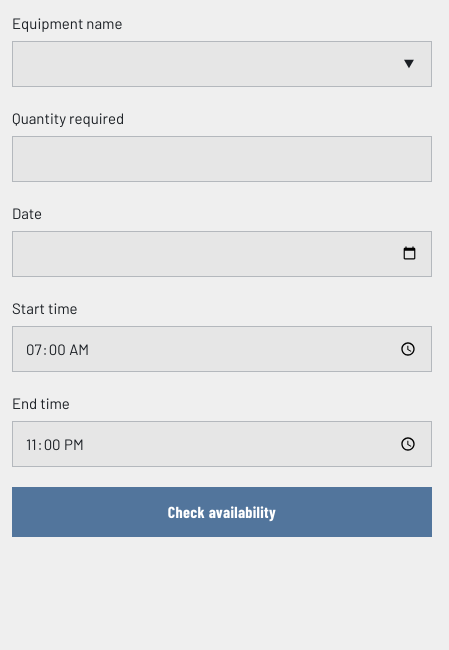
Test case: SCRUM-18 equipment availability form › SCRUM-18/AC4,AC6: prompts for a missing name, date and times without asking the service
Type "4" into the number field labelled "Quantity required".
click(222, 159); type("4")  # box [12, 136, 432, 182]
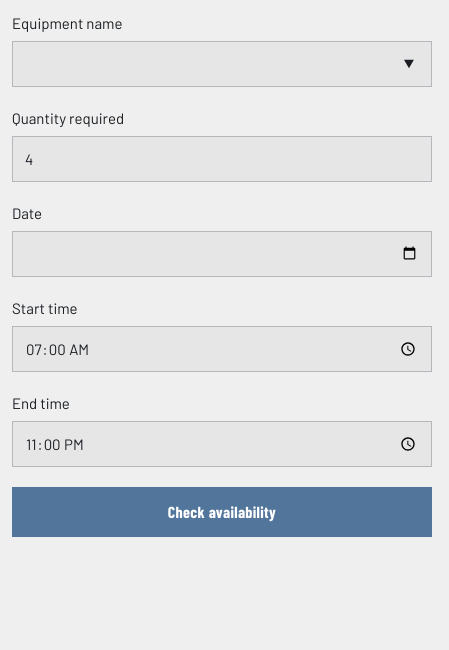
Clear the time field labelled "Start time" at (222, 349), box [12, 326, 432, 372]
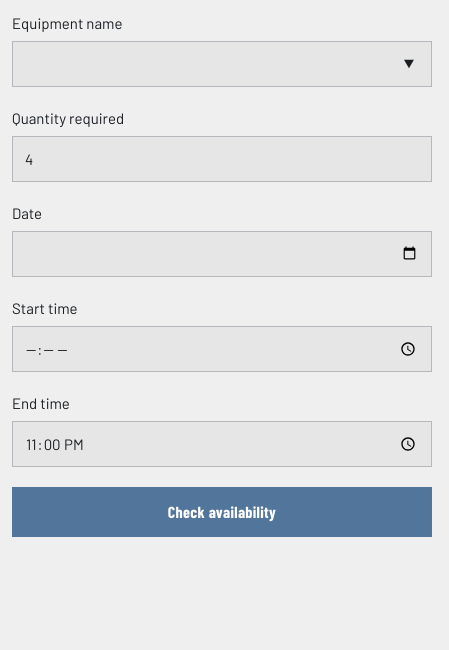
Clear the time field labelled "End time" at (222, 444), box [12, 420, 432, 467]
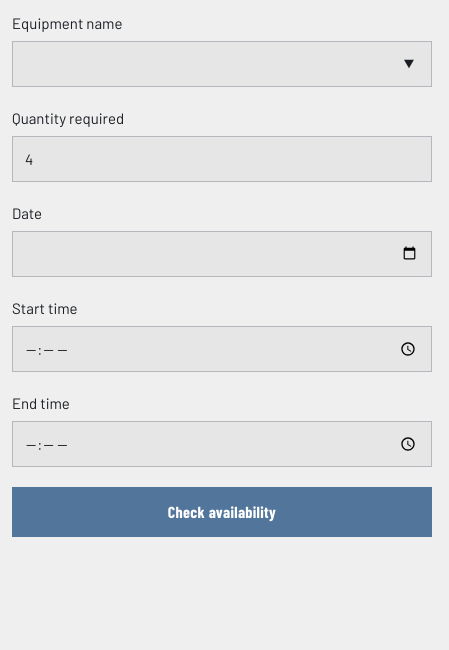
Click the button "Check availability".
click(222, 512)  # box [12, 487, 432, 537]
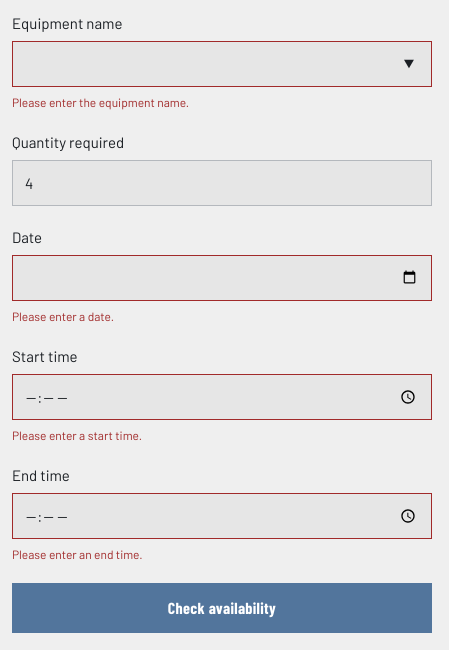
Result: the text "Please enter the equipment name." is shown at [12, 95, 189, 109]
Result: the text "Please enter a date." is shown at [12, 309, 114, 323]
Result: the text "Please enter a start time." is shown at [12, 428, 142, 442]
